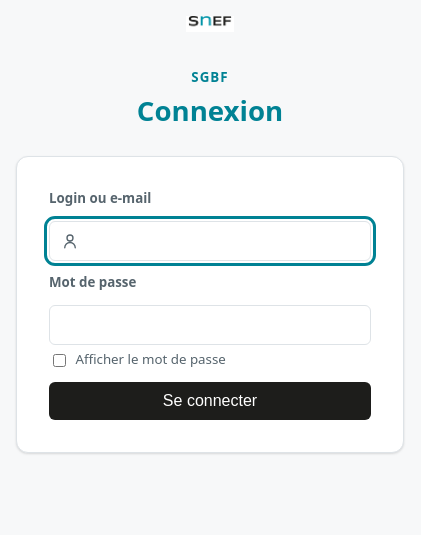
Test: LoginPage › mot de passe incorrect : affiche le message d'erreur et ne redirige jamais
The image size is (421, 535).
Type "admin" into the field labelled "Login ou e-mail". click: (210, 241)
box: [49,221,371,261]
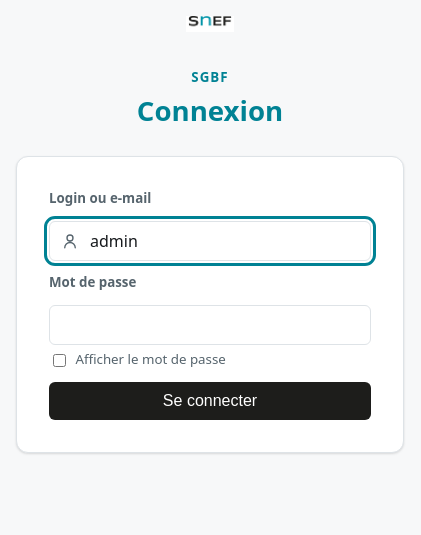
Type "mauvais-mot-de-passe" into the password field labelled "Mot de passe". click: (210, 325)
box: [49,305,371,345]
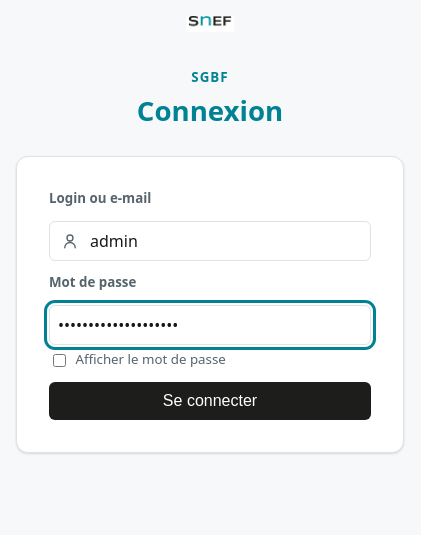
Click the button "Se connecter". click: click(210, 401)
box: [49,382,371,420]
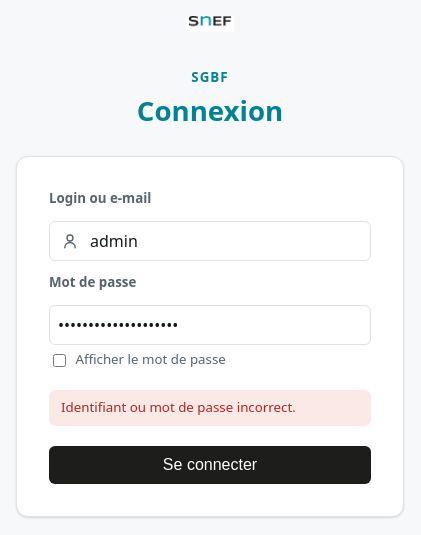
expect the message reads "Identifiant ou mot de passe incorrect.": met, box [61,398,296,416]
